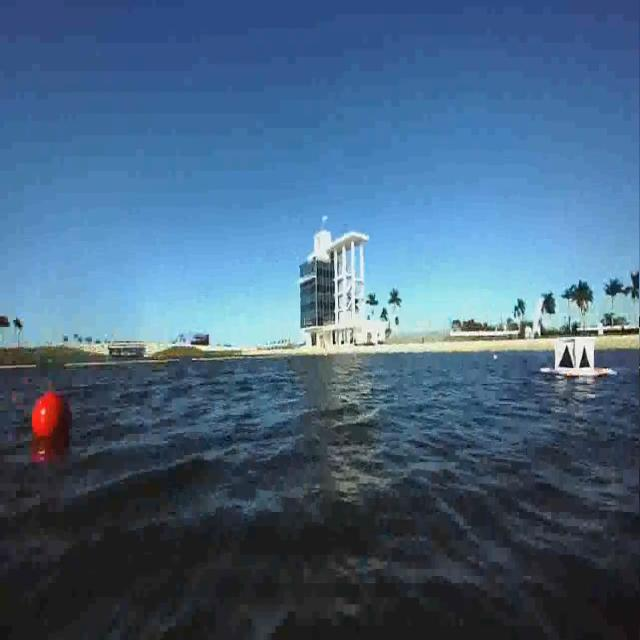red-buoy: (30, 389, 67, 443)
